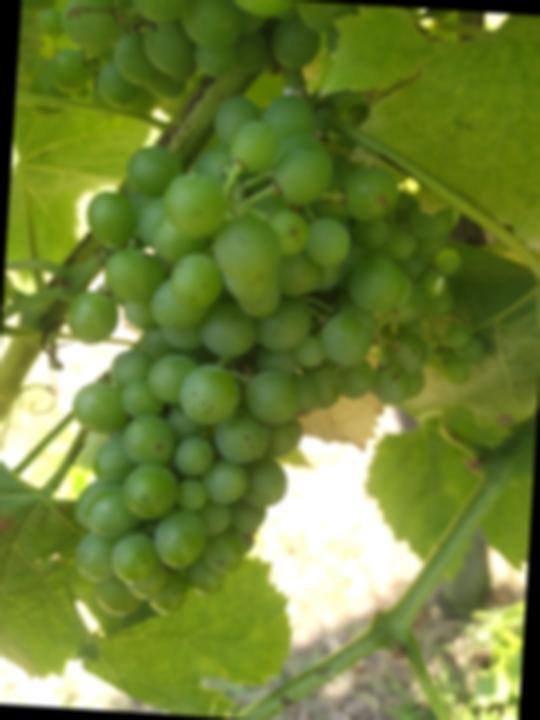grape: (43, 77, 503, 643)
